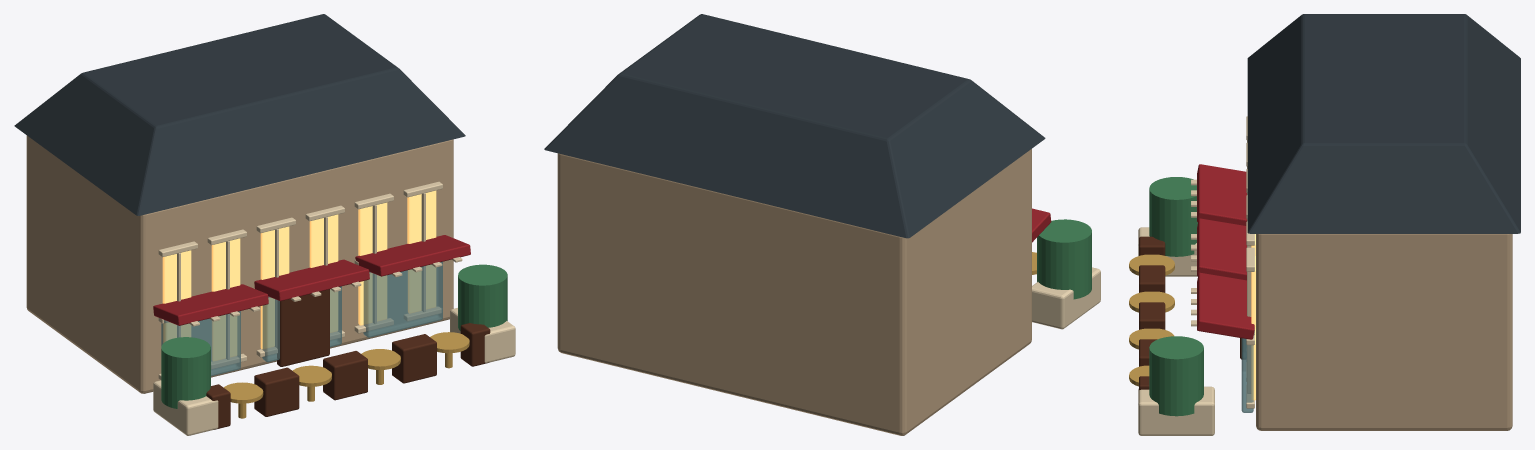
Rendered from paris-cafe.glb.
3 renders of one model, left to right at view 1: azimuth 30°, elevation 25°; view 2: azimuth 150°, elevation 25°; view 3: azimuth 270°, elevation 25°, orthographic. The views are drawn at different scales.
Parts seen in each view (by area): view 1: Optimized Paris landmark; view 2: Optimized Paris landmark; view 3: Optimized Paris landmark.
Part boxes in pixels (x1,y1,x2,y2): Optimized Paris landmark: (14,14,515,435); Optimized Paris landmark: (544,14,1100,435); Optimized Paris landmark: (1129,14,1520,435).
Bounding box in the file's own units: 7.9 × 5.45 × 7.17.
